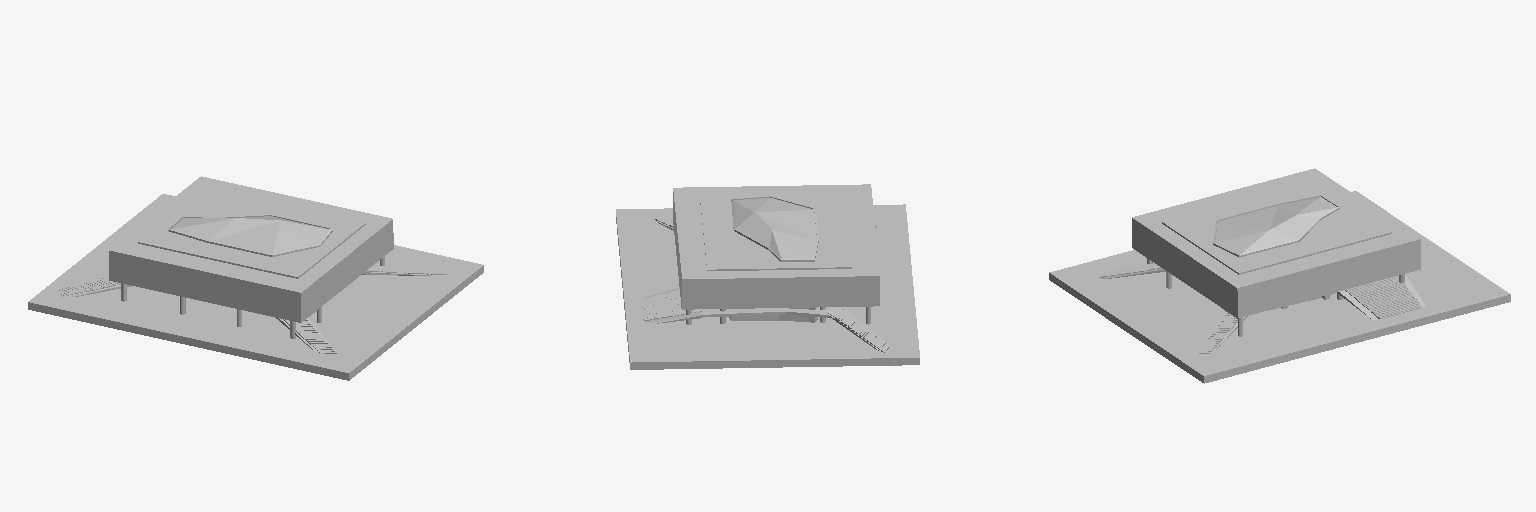
Rendered from KI Building_Tool.obj.
3 views of the same model, side by side, from view 1: azimuth 30°, elevation 25°; view 2: azimuth 150°, elevation 25°; view 3: azimuth 270°, elevation 25° (orthographic).
Parts seen in each view (by area): view 1: KI_bld, lambert5; view 2: KI_bld, lambert5; view 3: KI_bld, lambert5.
Boxes of the visible parts, box(x1,y1,x2,y2) form: KI_bld: box(54, 176, 446, 353); lambert5: box(28, 194, 483, 380); KI_bld: box(642, 184, 892, 352); lambert5: box(616, 204, 919, 369); KI_bld: box(1096, 168, 1421, 353); lambert5: box(1049, 191, 1510, 383).
Size of the model in its own units: 195 by 34.36 by 205.